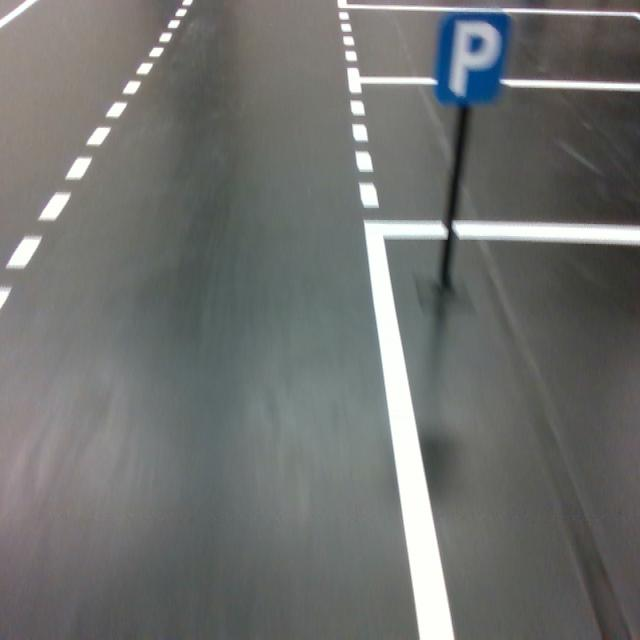parking-sign: (433, 11, 514, 107)
